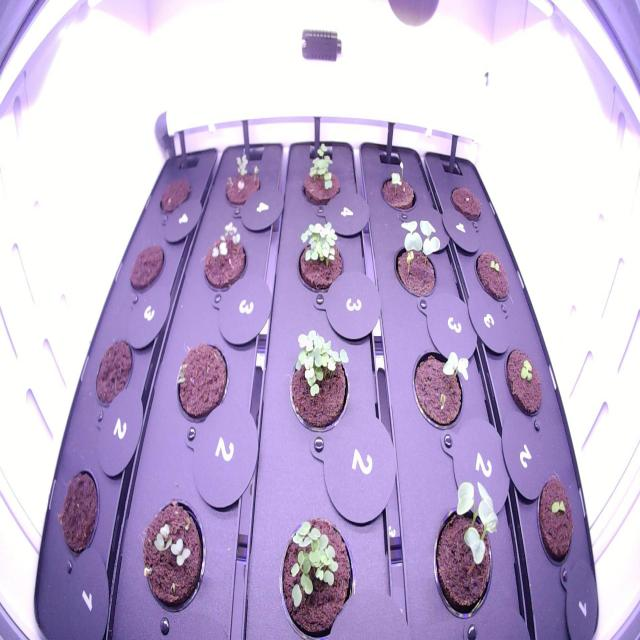germination: (423, 470, 505, 628), (272, 511, 362, 637), (136, 490, 208, 621), (278, 326, 354, 438), (406, 331, 472, 441), (382, 208, 447, 306), (286, 214, 348, 302), (530, 466, 578, 571), (200, 214, 251, 297), (296, 135, 346, 218), (501, 339, 546, 420), (215, 148, 265, 215), (470, 247, 516, 307), (374, 166, 419, 216)
pod: (170, 336, 232, 427), (54, 462, 103, 560), (92, 332, 136, 422), (123, 238, 168, 304), (153, 169, 194, 222), (447, 179, 484, 226)
